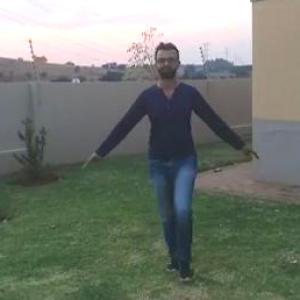land: (112, 54, 232, 262)
